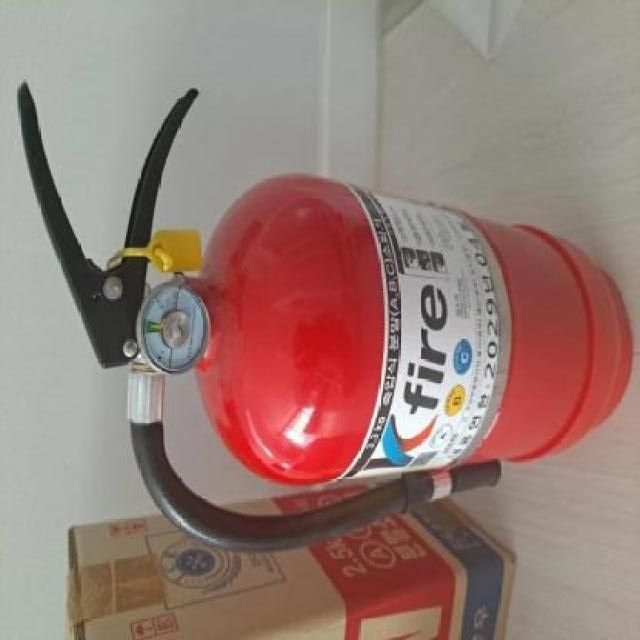fire extinguisher: (16, 80, 635, 555)
